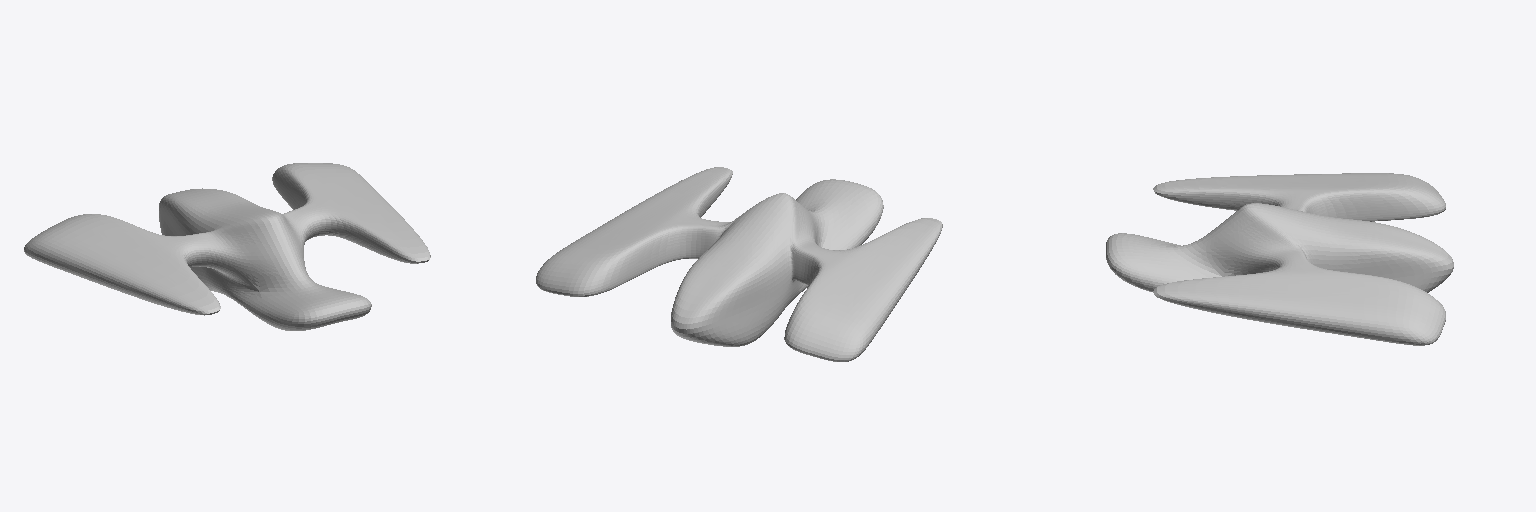
The model's file is fancy-enemy.obj.
The picture shows the model from 3 angles: view 1: azimuth 30°, elevation 25°; view 2: azimuth 150°, elevation 25°; view 3: azimuth 270°, elevation 25°; orthographic projection.
Parts seen in each view (by area): view 1: Cube_Cube.002; view 2: Cube_Cube.002; view 3: Cube_Cube.002.
Part boxes in pixels (x1,y1,x2,y2): Cube_Cube.002: (24, 163, 430, 330); Cube_Cube.002: (536, 167, 942, 361); Cube_Cube.002: (1106, 173, 1453, 345).
Size of the model in its own units: 2.96 by 0.8886 by 2.77.